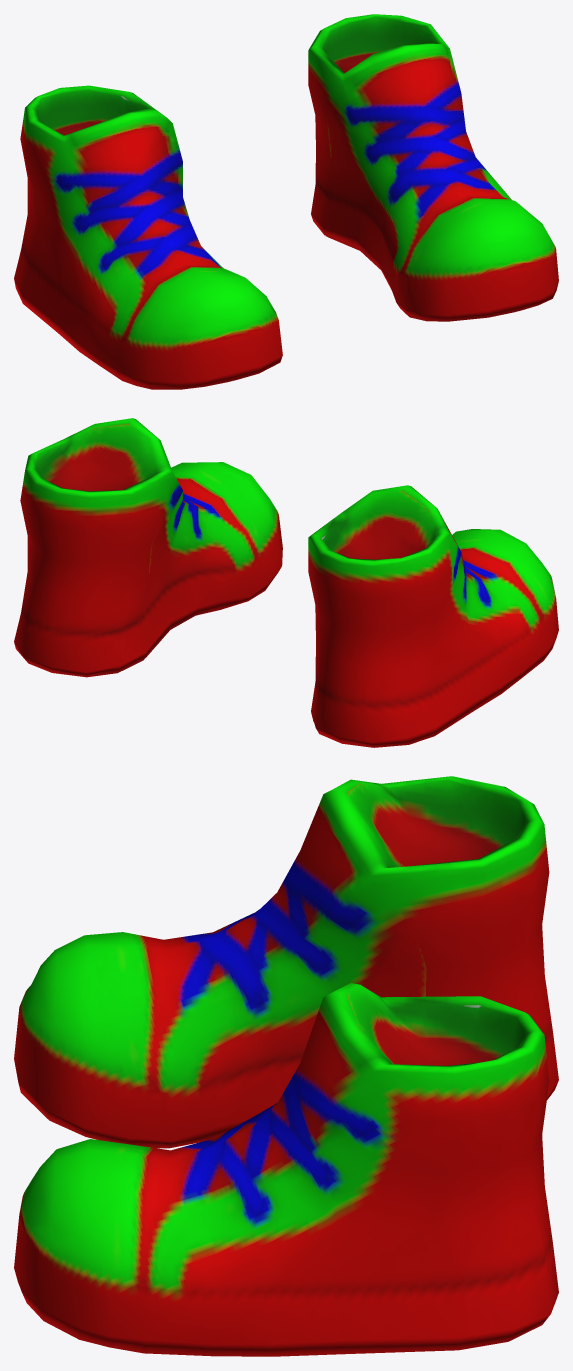
The model's file is BSMC_Outfit_Shoes_CoolShoes.obj.
3 renders of one model, top to bottom at view 1: azimuth 30°, elevation 25°; view 2: azimuth 150°, elevation 25°; view 3: azimuth 270°, elevation 25°, orthographic. The views are drawn at different scales.
Visible parts, largest first — view 1: BSMC_Outfit_Shoes_CoolShoes_0; view 2: BSMC_Outfit_Shoes_CoolShoes_0; view 3: BSMC_Outfit_Shoes_CoolShoes_0.
Boxes of the visible parts, bbox=[...] form: BSMC_Outfit_Shoes_CoolShoes_0: bbox=[14, 14, 558, 389]; BSMC_Outfit_Shoes_CoolShoes_0: bbox=[14, 418, 558, 747]; BSMC_Outfit_Shoes_CoolShoes_0: bbox=[14, 776, 558, 1356].
Size of the model in its own units: 0.3401 by 0.1585 by 0.2475.
Materials: 1 (1 with a texture image).
